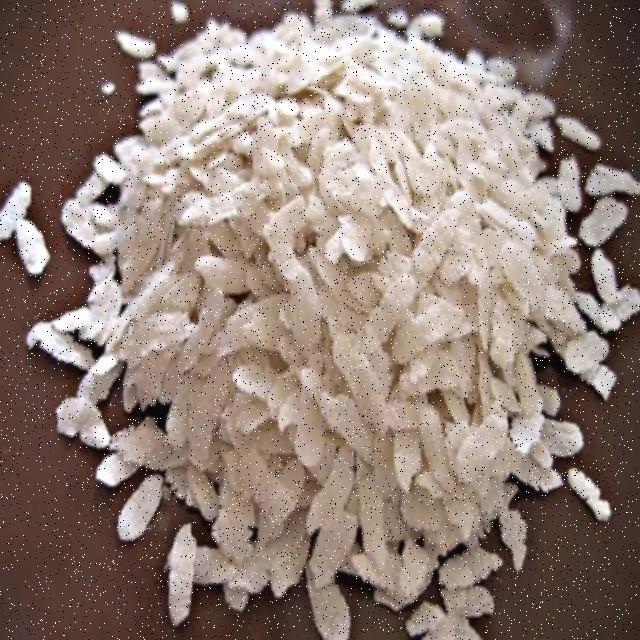Beaten Rice: (186, 123, 518, 492)
